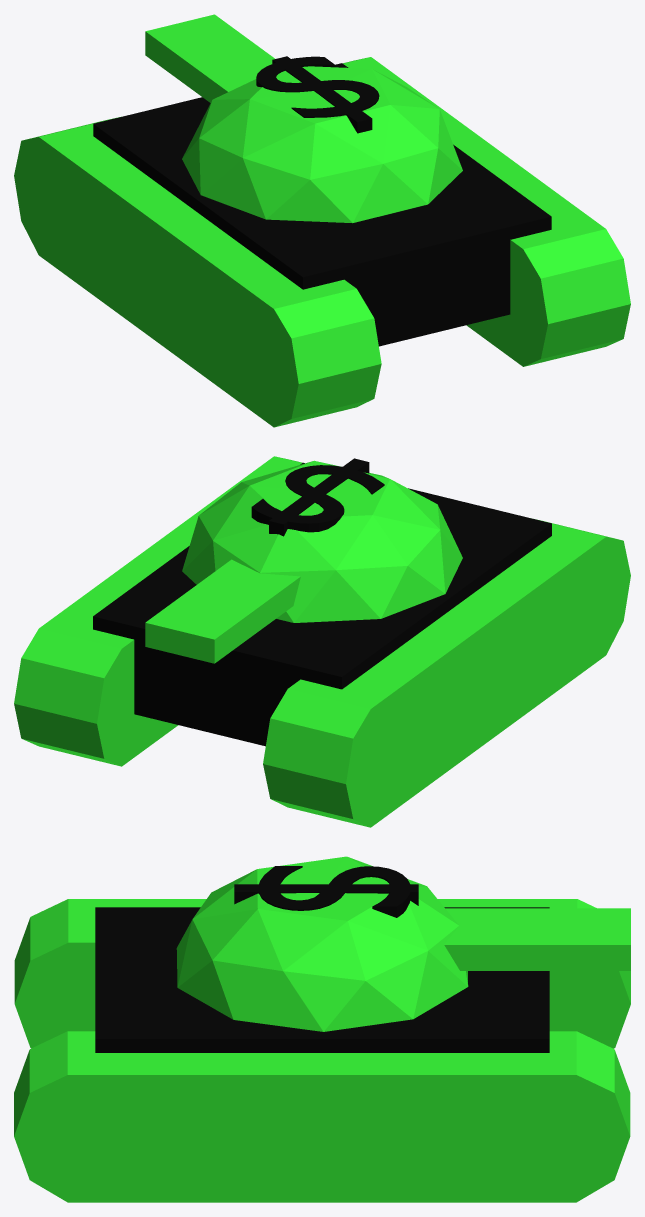
The model's file is fastUnit.fbx.
The picture shows the model from 3 angles, top to bottom: view 1: azimuth 30°, elevation 25°; view 2: azimuth 150°, elevation 25°; view 3: azimuth 270°, elevation 25°; orthographic projection. The views are drawn at different scales.
Parts seen in each view (by area): view 1: Icosphere; view 2: Icosphere; view 3: Icosphere.
Part boxes in pixels (left/top/right/bottom): Icosphere: left=14, top=14, right=630, bottom=427; Icosphere: left=14, top=456, right=630, bottom=827; Icosphere: left=14, top=856, right=630, bottom=1202.
Size of the model in its own units: 4.6 by 2.78 by 6.84.
1 material, 1 textured.
